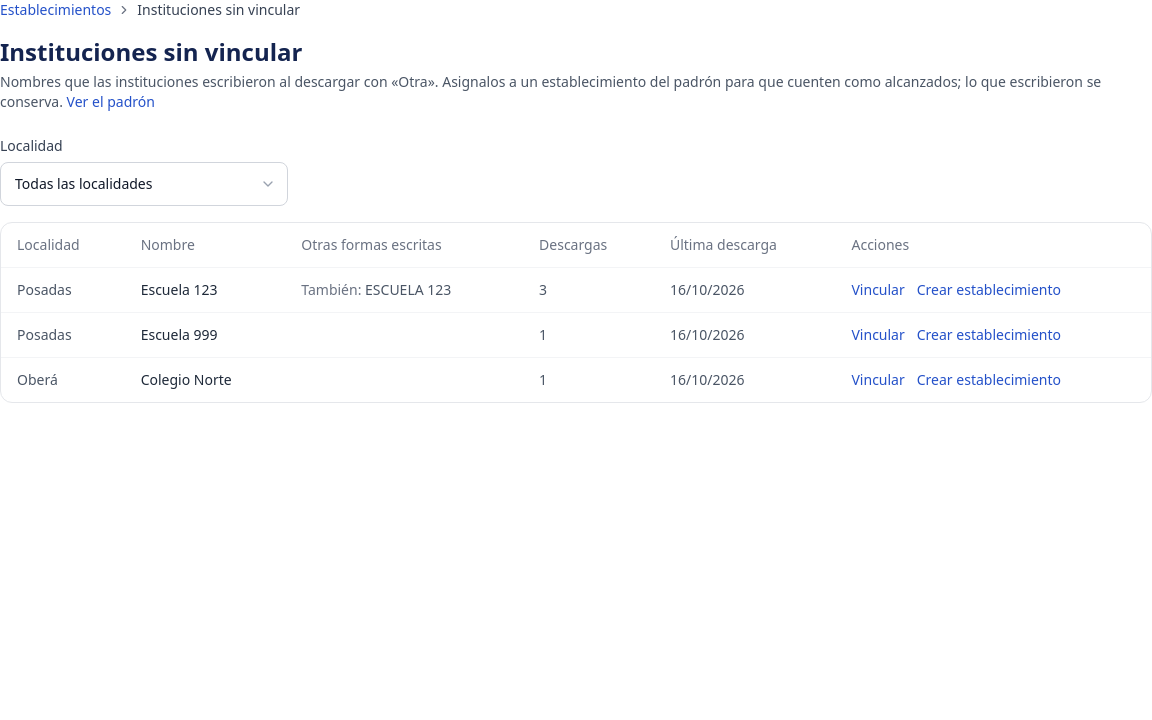
Test case: SinVincularPage: vincular (criterios 4, 5 y 9) › "Vincular" está deshabilitado hasta elegir un establecimiento
Click the button "Vincular" in the row of "También:".
click(878, 290)  # box [852,280,905,300]
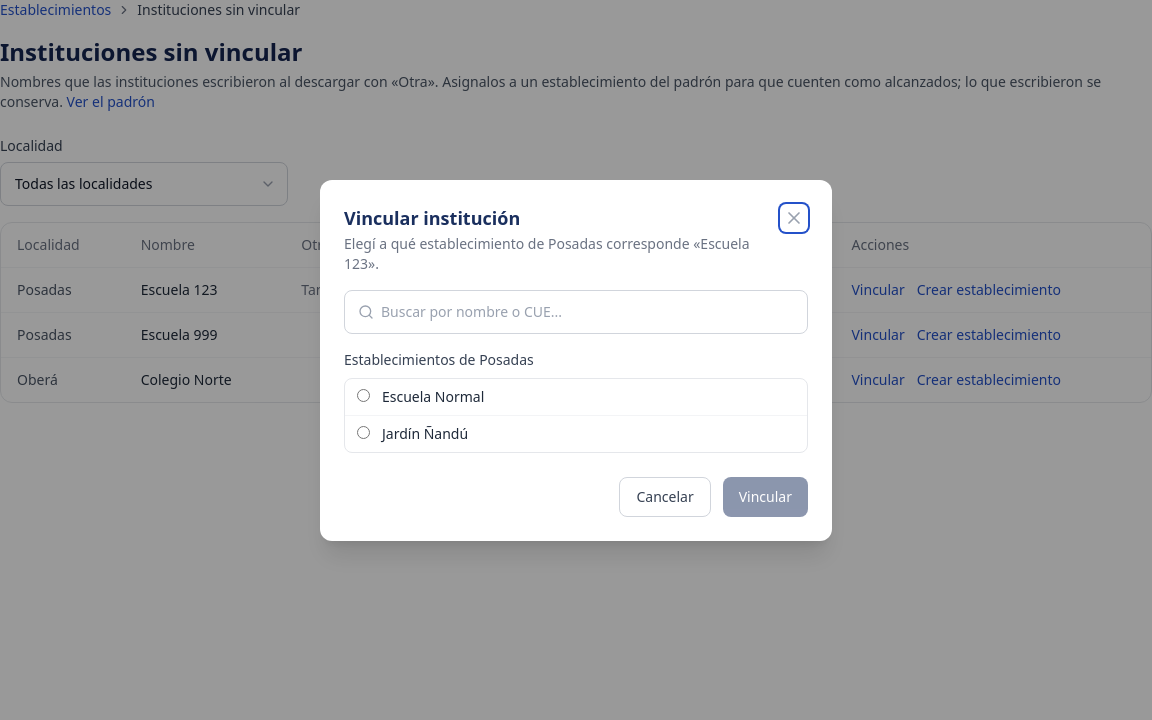
Expected: the radio button labelled "Escuela Normal" is shown
Expected: the button "Vincular" is disabled, [723,476,808,516]
Click the radio button labelled "Escuela Normal".
click(364, 395)  # box [357,388,370,402]
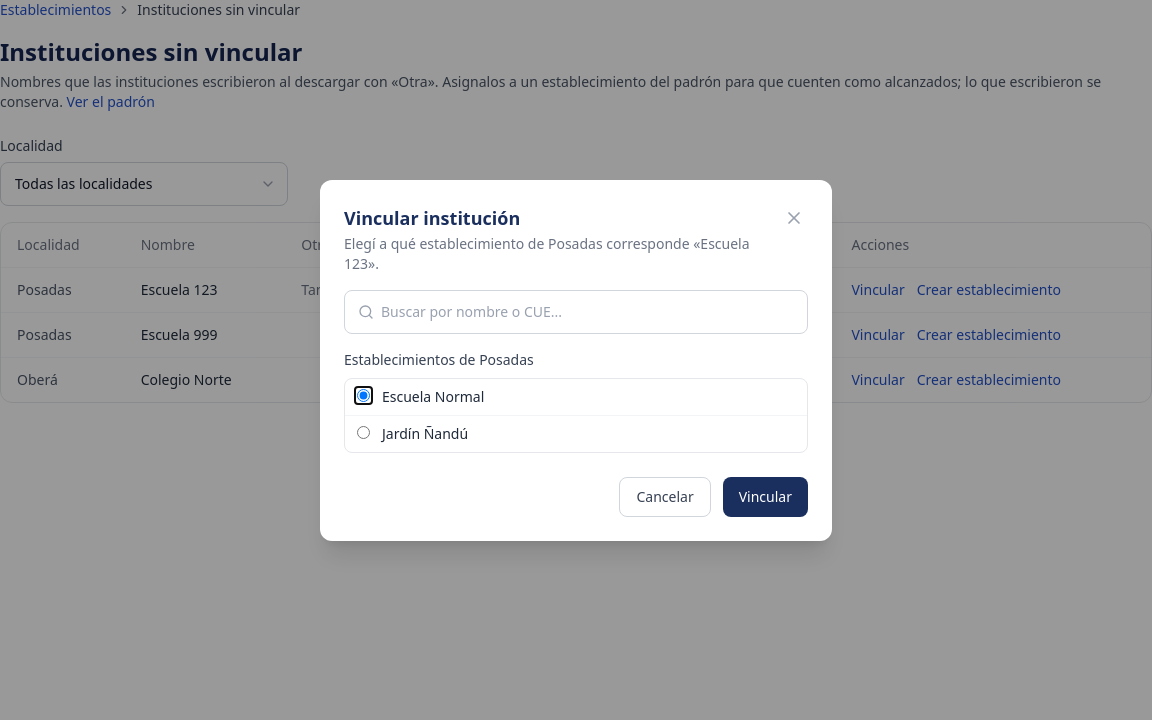
Expected: the button "Vincular" is enabled, [723,476,808,516]
